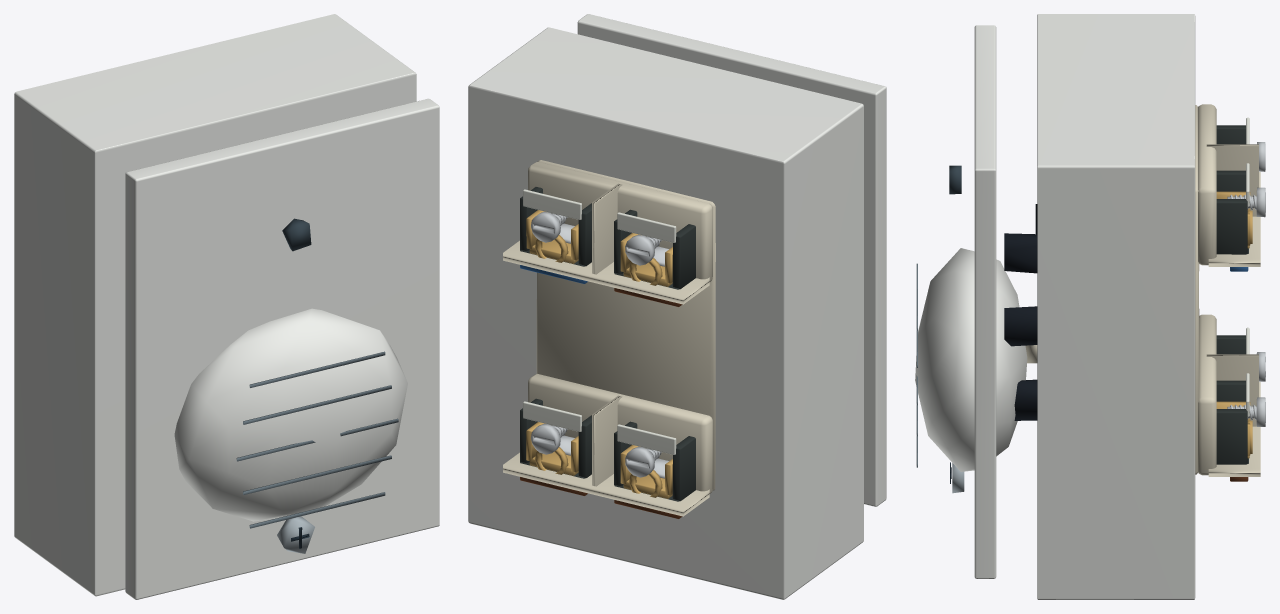
Rendered from sensor_mode_pir.low.glb.
3 renders of one model, left to right at view 1: azimuth 30°, elevation 25°; view 2: azimuth 150°, elevation 25°; view 3: azimuth 270°, elevation 25°, orthographic. The views are drawn at different scales.
Parts seen in each view (by area): view 1: part:cover, part:body, part:sensing, part:sensing · Original 0905ee26, part:body.001; view 2: part:body, part:terminals · Original 5a609f27, part:cover, detail:terminal-clamp:IN · Detail moulded engineering polyme, detail:terminal-clamp:L · Detail moulded engineering polymer, detail:terminal-clamp:IN · Detail machined brass, detail:terminal-clamp:L · Detail machined brass, detail:terminal-clamp:N · Detail machined brass, detail:terminal-clamp:OUT · Detail machined brass, detail:terminal-clamp:N · Detail moulded engineering polymer, detail:terminal-clamp:OUT · Detail moulded engineering polym, Moulded terminal legend pad (+7 smaller); view 3: part:body, part:sensing, part:cover, part:terminals · Original 5a609f27, part:electronics · Original 3ff2d46d, detail:terminal-clamp:OUT · Detail moulded engineering polym, detail:terminal-clamp:N · Detail moulded engineering polymer, detail:terminal-clamp:IN · Detail moulded engineering polyme, detail:terminal-clamp:L · Detail moulded engineering polymer, detail:terminal-clamp:OUT · Detail zinc plated fixing, detail:terminal-clamp:N · Detail zinc plated fixing.
Part boxes in pixels (<box>): part:cover: <box>125,98,439,599</box>; part:body: <box>14,14,416,596</box>; part:sensing: <box>174,308,407,521</box>; part:sensing · Original 0905ee26: <box>236,351,398,528</box>; part:body.001: <box>282,218,311,251</box>; part:body: <box>468,27,863,599</box>; part:terminals · Original 5a609f27: <box>503,160,715,516</box>; part:cover: <box>577,14,886,506</box>; detail:terminal-clamp:IN · Detail moulded engineering polyme: <box>614,421,695,501</box>; detail:terminal-clamp:L · Detail moulded engineering polymer: <box>614,209,695,289</box>; detail:terminal-clamp:IN · Detail machined brass: <box>620,445,672,498</box>; detail:terminal-clamp:L · Detail machined brass: <box>620,233,672,286</box>; detail:terminal-clamp:N · Detail machined brass: <box>526,210,578,263</box>; detail:terminal-clamp:OUT · Detail machined brass: <box>526,422,578,475</box>; detail:terminal-clamp:N · Detail moulded engineering polymer: <box>520,187,591,266</box>; detail:terminal-clamp:OUT · Detail moulded engineering polym: <box>520,398,591,478</box>; Moulded terminal legend pad: <box>617,212,676,242</box>; part:body: <box>1037,14,1195,599</box>; part:sensing: <box>915,248,1027,471</box>; part:cover: <box>952,25,996,578</box>; part:terminals · Original 5a609f27: <box>1195,104,1260,476</box>; part:electronics · Original 3ff2d46d: <box>1004,204,1037,420</box>; detail:terminal-clamp:OUT · Detail moulded engineering polym: <box>1216,380,1248,464</box>; detail:terminal-clamp:N · Detail moulded engineering polymer: <box>1216,170,1248,254</box>; detail:terminal-clamp:IN · Detail moulded engineering polyme: <box>1216,335,1245,354</box>; detail:terminal-clamp:L · Detail moulded engineering polymer: <box>1216,125,1245,144</box>; detail:terminal-clamp:OUT · Detail zinc plated fixing: <box>1227,397,1265,426</box>; detail:terminal-clamp:N · Detail zinc plated fixing: <box>1227,187,1265,217</box>.
Bounding box in the file's own units: 0.6262 × 0.8286 × 0.606.
